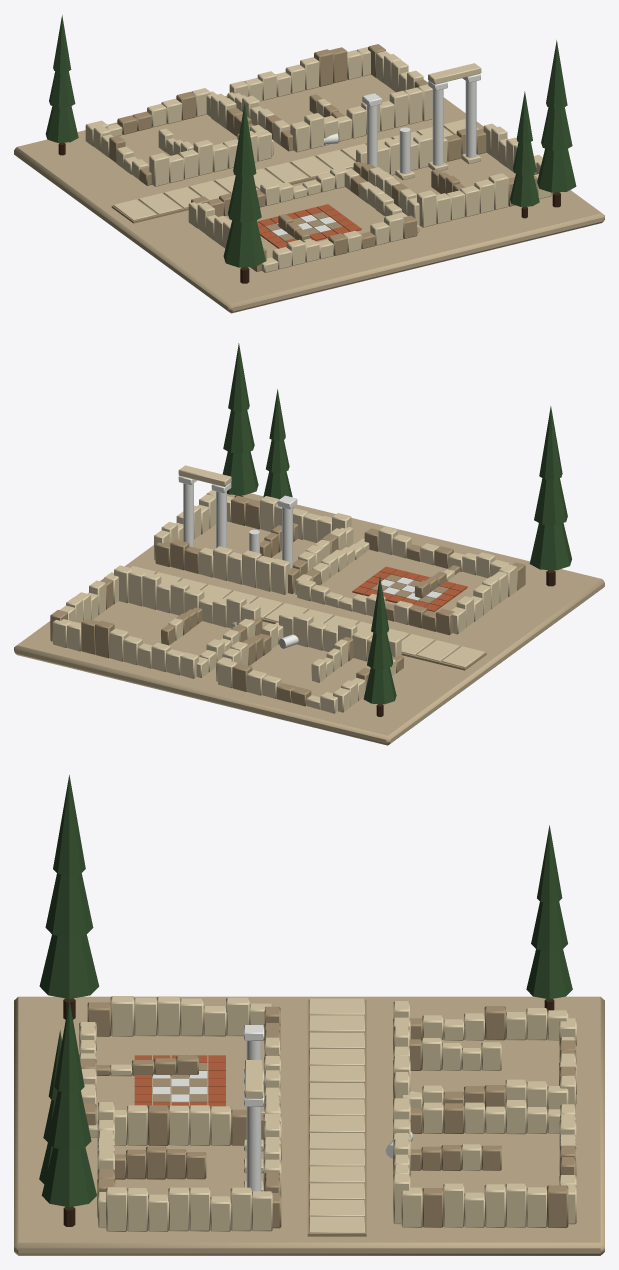
File: Monument_Utique.fbx
3 renders of one model, top to bottom at view 1: azimuth 30°, elevation 25°; view 2: azimuth 150°, elevation 25°; view 3: azimuth 270°, elevation 25°, orthographic. The views are drawn at different scales.
Visible parts, largest first — view 1: Monument_Utique; view 2: Monument_Utique; view 3: Monument_Utique.
Boxes of the visible parts, x1,y1,x2,y2 form: Monument_Utique: [14, 15, 604, 313]; Monument_Utique: [14, 343, 604, 745]; Monument_Utique: [14, 775, 604, 1255].
Size of the model in its own units: 3.2 by 1.54 by 3.2.
